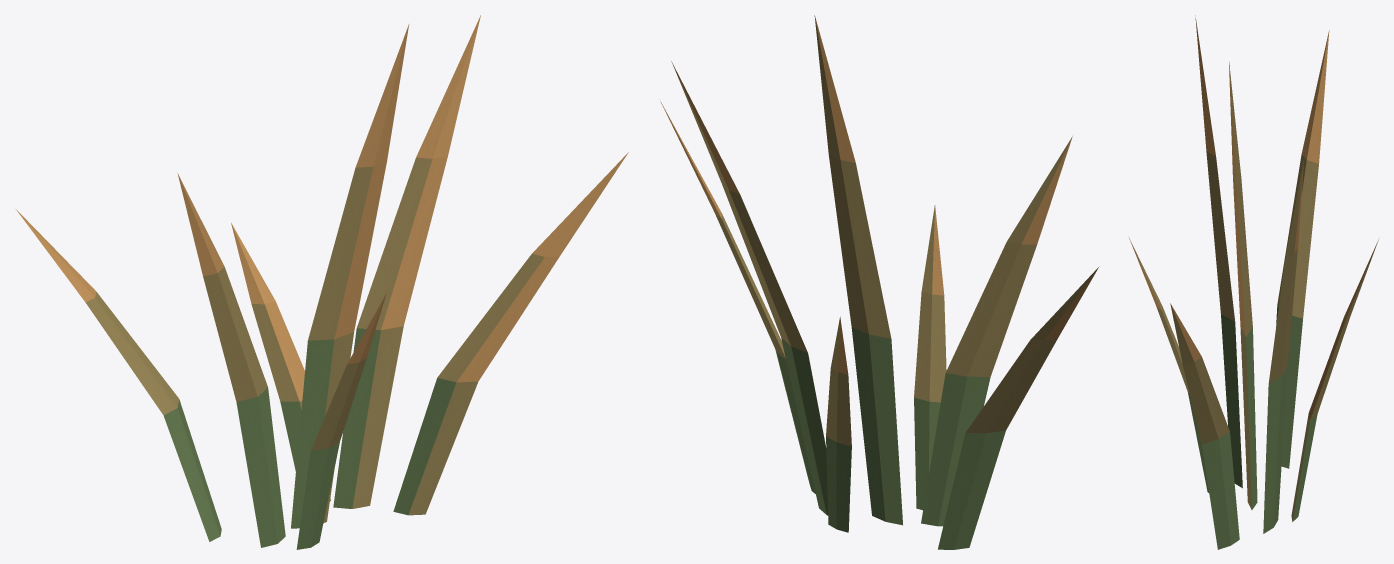
Rendered from 06_shore_reeds_A.obj.
3 views of the same model, side by side, from view 1: azimuth 30°, elevation 25°; view 2: azimuth 150°, elevation 25°; view 3: azimuth 270°, elevation 25° (orthographic). The views are drawn at different scales.
Visible parts, largest first — view 1: Shore_Reeds_A; view 2: Shore_Reeds_A; view 3: Shore_Reeds_A.
Boxes of the visible parts, box(x1,y1,x2,y2) form: Shore_Reeds_A: box(16, 15, 628, 549); Shore_Reeds_A: box(659, 15, 1099, 549); Shore_Reeds_A: box(1129, 15, 1378, 549).
Size of the model in its own units: 0.73 by 0.64 by 0.3.
1 material, 1 textured.
